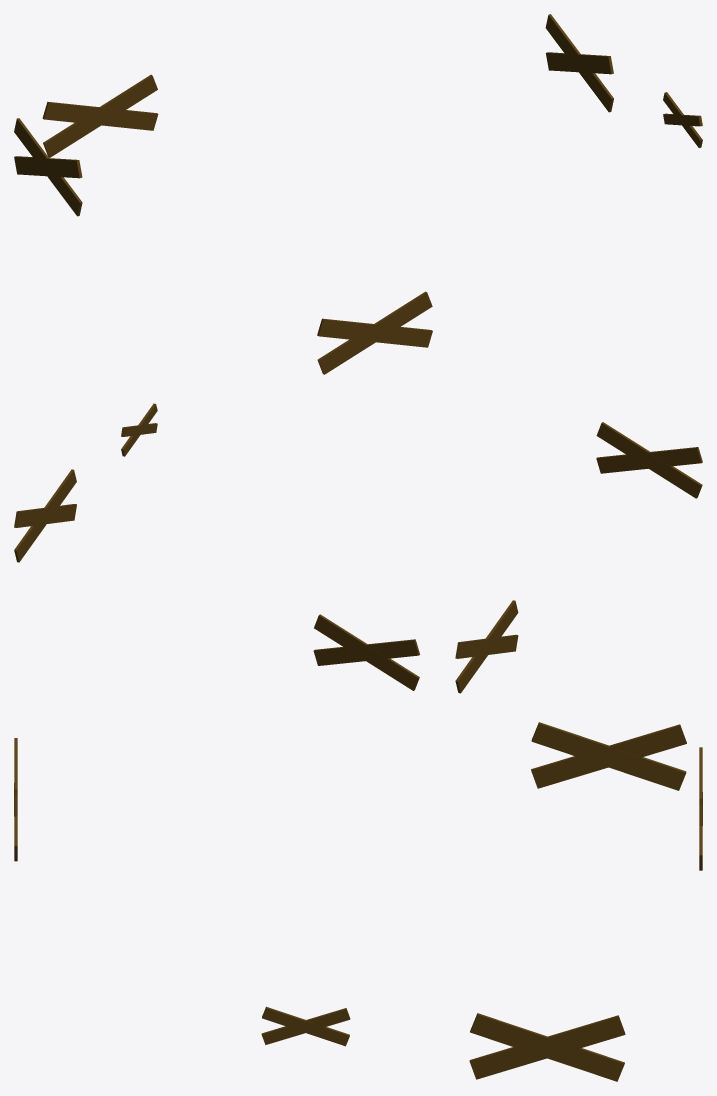
File: windowboards.glb
3 views of the same model, one above another, from view 1: azimuth 30°, elevation 25°; view 2: azimuth 150°, elevation 25°; view 3: azimuth 270°, elevation 25° (orthographic). The views are drawn at different scales.
Parts seen in each view (by area): view 1: Cube.009, Cube.003, Cube.008, Cube.002, Cube.001, Cube.005, Cube, Cube.004; view 2: Cube.003, Cube.009, Cube.008, Cube.002, Cube.001, Cube.005, Cube, Cube.004; view 3: Cube.001, Cube.005, Cube, Cube.004, Cube.007, Cube.006.
Part boxes in pixels (x1,y1,x2,y2): Cube.009: [317, 291, 432, 374]; Cube.003: [43, 74, 157, 157]; Cube.008: [317, 318, 432, 347]; Cube.002: [42, 101, 158, 130]; Cube.001: [14, 156, 82, 178]; Cube.005: [546, 52, 613, 74]; Cube: [14, 118, 82, 216]; Cube.004: [545, 14, 613, 112]; Cube.003: [314, 614, 419, 690]; Cube.009: [596, 422, 702, 498]; Cube.008: [596, 447, 702, 473]; Cube.002: [313, 639, 419, 665]; Cube.001: [455, 600, 518, 693]; Cube.005: [14, 469, 76, 562]; Cube: [455, 634, 518, 658]; Cube.004: [14, 504, 76, 527]; Cube.001: [531, 722, 686, 790]; Cube.005: [470, 1013, 624, 1081]; Cube: [531, 724, 686, 788]; Cube.004: [469, 1015, 625, 1079]; Cube.007: [262, 1006, 349, 1046]; Cube.006: [261, 1008, 350, 1044].
Size of the model in its own units: 12.68 by 1.5 by 12.62.
